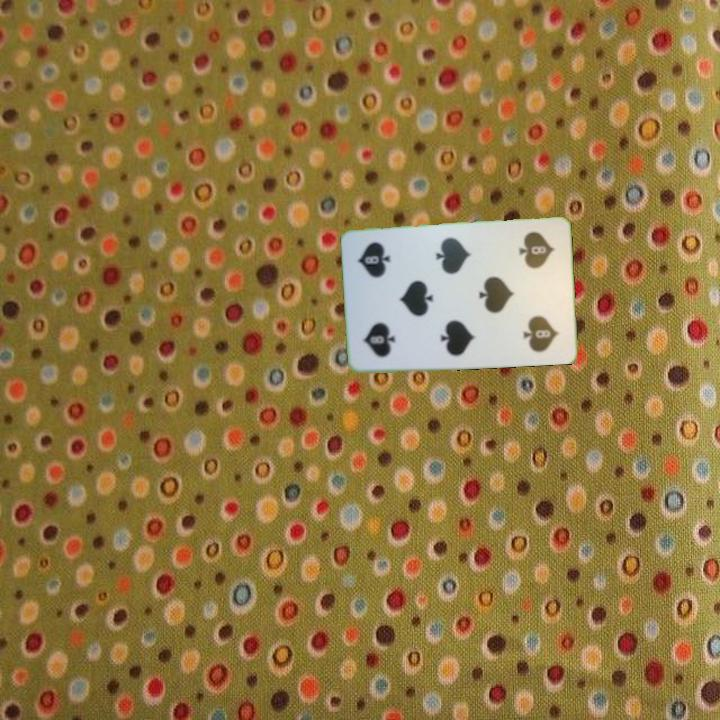s_8.png: (353, 295, 414, 365), (503, 226, 564, 296)
